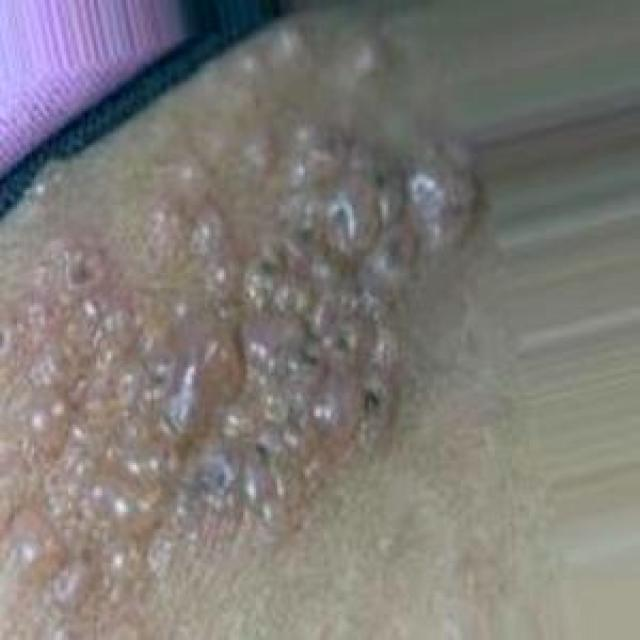Shingles: (0, 126, 481, 631)
